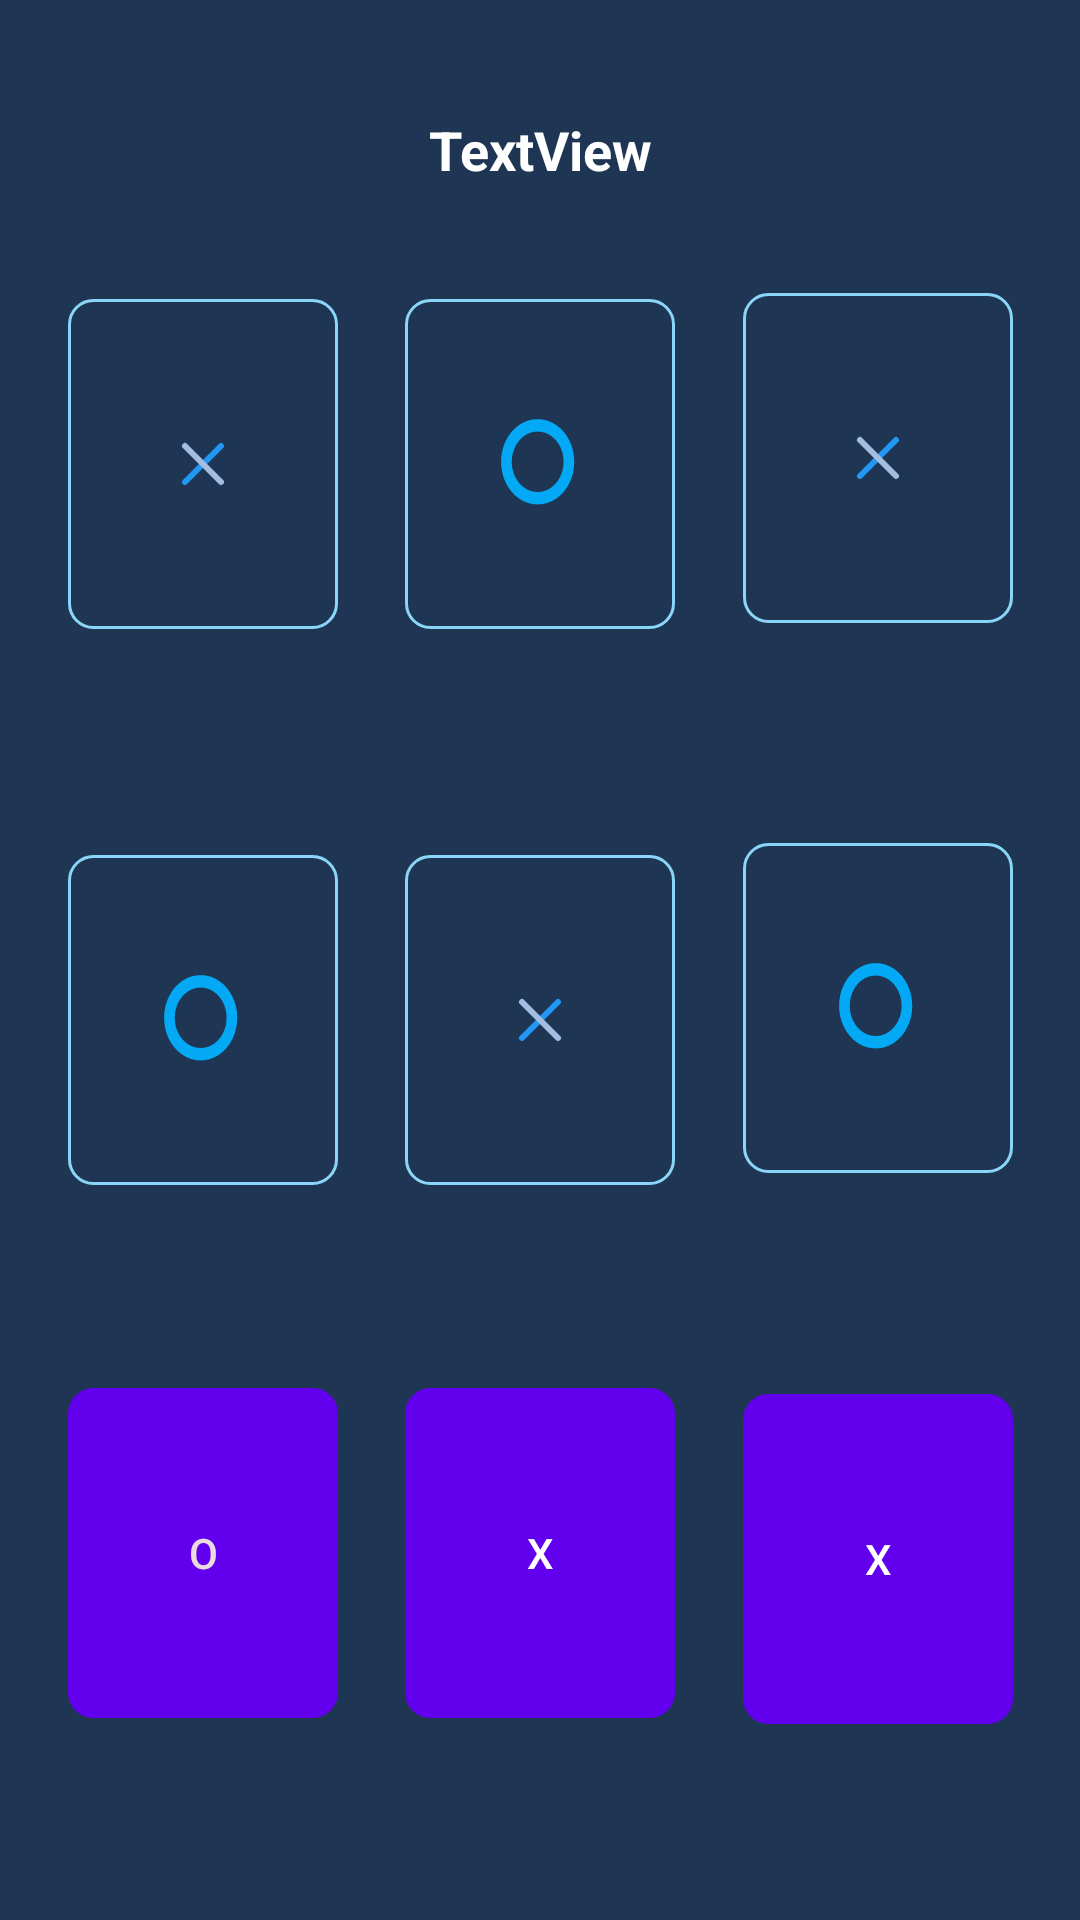

Locate icon controls on the screen. Image size 1080×1920, boxes as region(x1, y1, x2, y2).
iconfinder circle: region(405, 299, 675, 629), region(743, 843, 1013, 1173), region(68, 855, 338, 1185)
